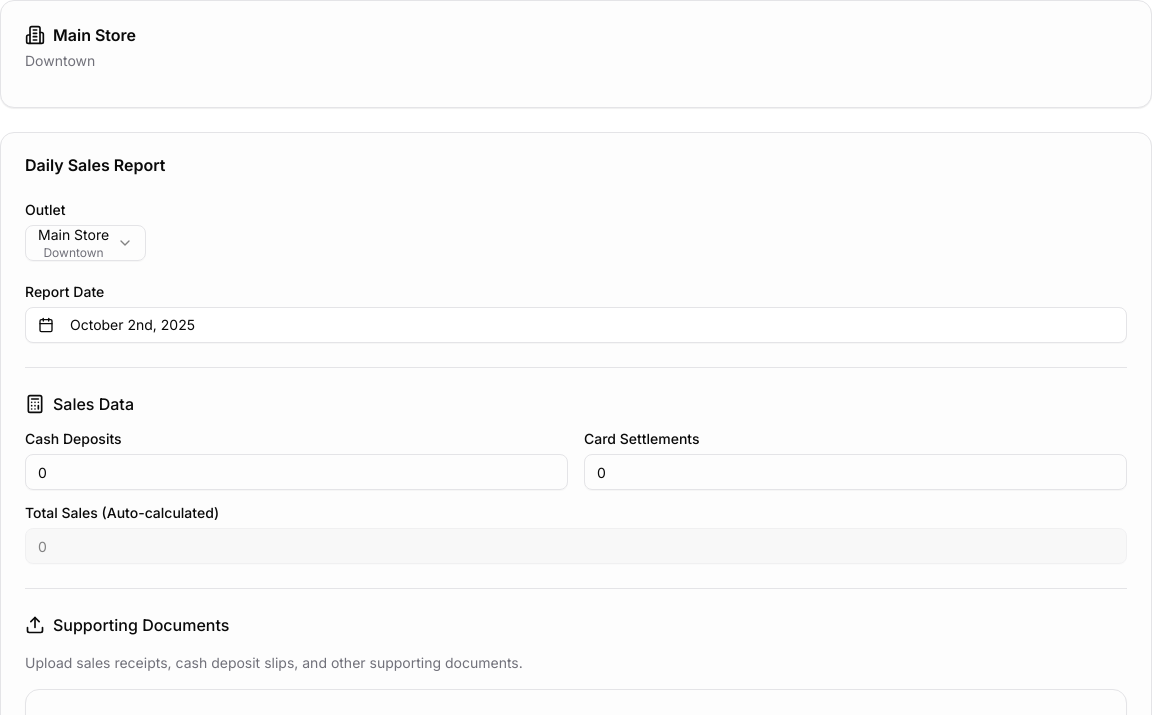
Test case: SalesReportForm › Form Submission › shows loading state during submission
The width and height of the screenshot is (1152, 715).
Type "100" into the number field labelled "Cash Deposits" at (296, 472), box [25,454,568,490]
(page scrolled)
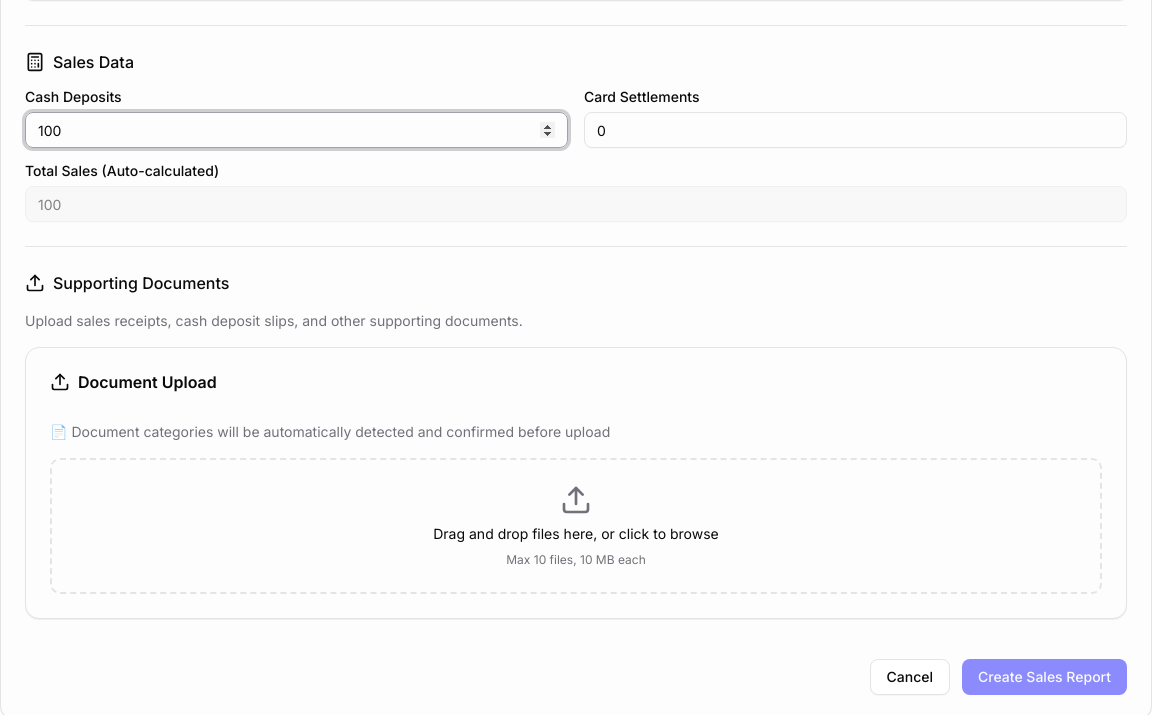
Click the button "Create Sales Report" at (1044, 677), box [962,659,1127,695]
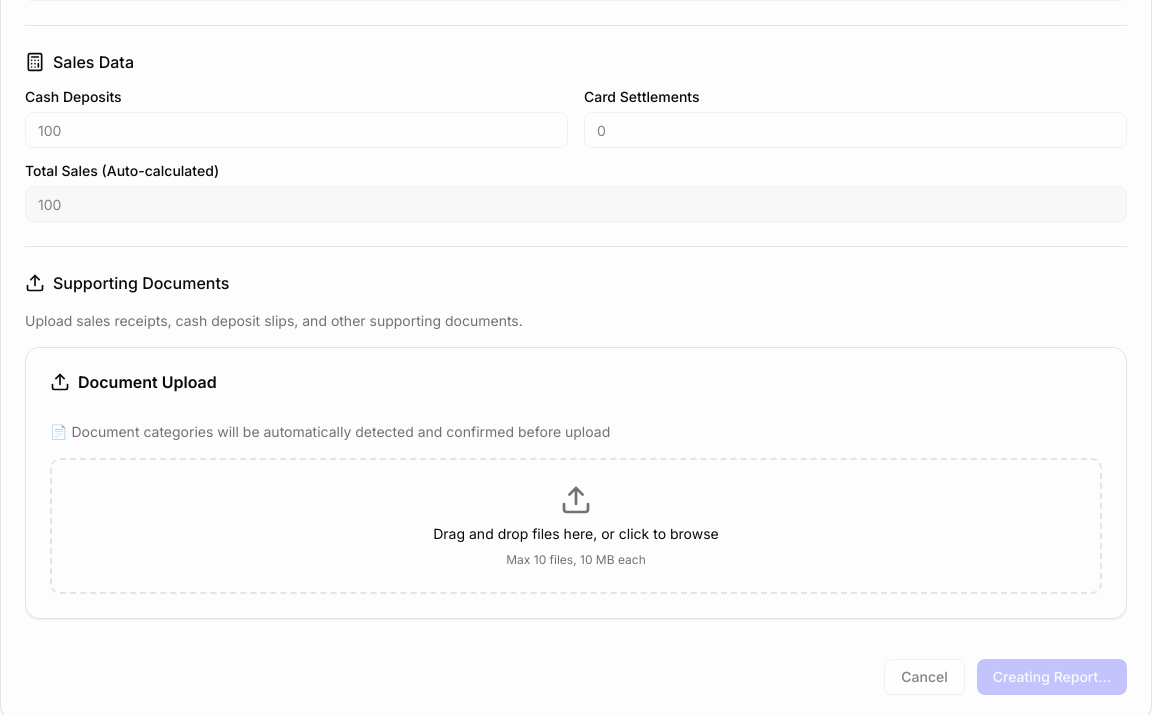
Expected: the button "Creating Report..." is disabled, [977,659,1127,695]
